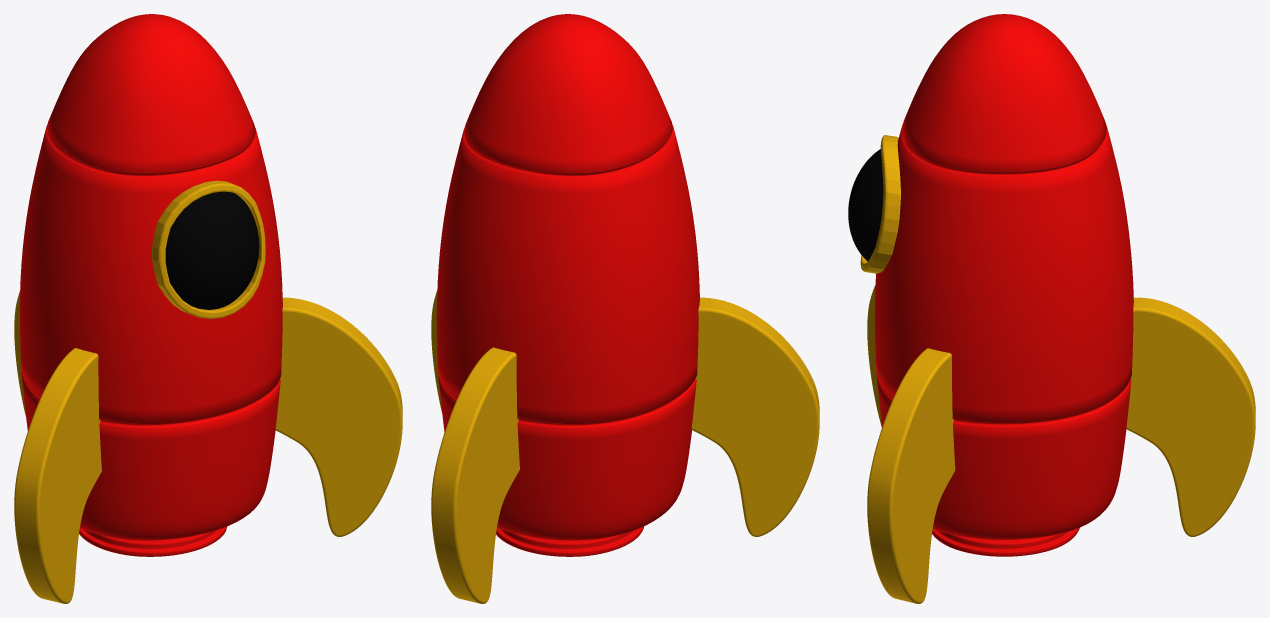
File: Rocket.fbx
The picture shows the model from 3 angles, left to right: view 1: azimuth 30°, elevation 25°; view 2: azimuth 150°, elevation 25°; view 3: azimuth 270°, elevation 25°; orthographic projection.
Visible parts, largest first — view 1: Cube, BezierCircle.001, BezierCircle.002, Sphere, Circle, BezierCircle; view 2: Cube, BezierCircle.002, BezierCircle, BezierCircle.001; view 3: Cube, BezierCircle, BezierCircle.001, Sphere, Circle, BezierCircle.002.
Part boxes in pixels (<box>): Cube: <box>19,14,282,556</box>; BezierCircle.001: <box>275,297,402,536</box>; BezierCircle.002: <box>14,348,101,603</box>; Sphere: <box>165,191,259,309</box>; Circle: <box>152,180,265,318</box>; BezierCircle: <box>14,291,25,415</box>; Cube: <box>436,14,699,556</box>; BezierCircle.002: <box>691,297,819,536</box>; BezierCircle: <box>431,347,519,603</box>; BezierCircle.001: <box>431,291,442,413</box>; Cube: <box>875,14,1133,556</box>; BezierCircle: <box>1126,297,1255,536</box>; BezierCircle.001: <box>867,348,955,603</box>; Sphere: <box>848,149,883,261</box>; Circle: <box>860,135,900,273</box>; BezierCircle.002: <box>867,285,881,427</box>.
Bounding box in the file's own units: 357 × 451 × 325.
